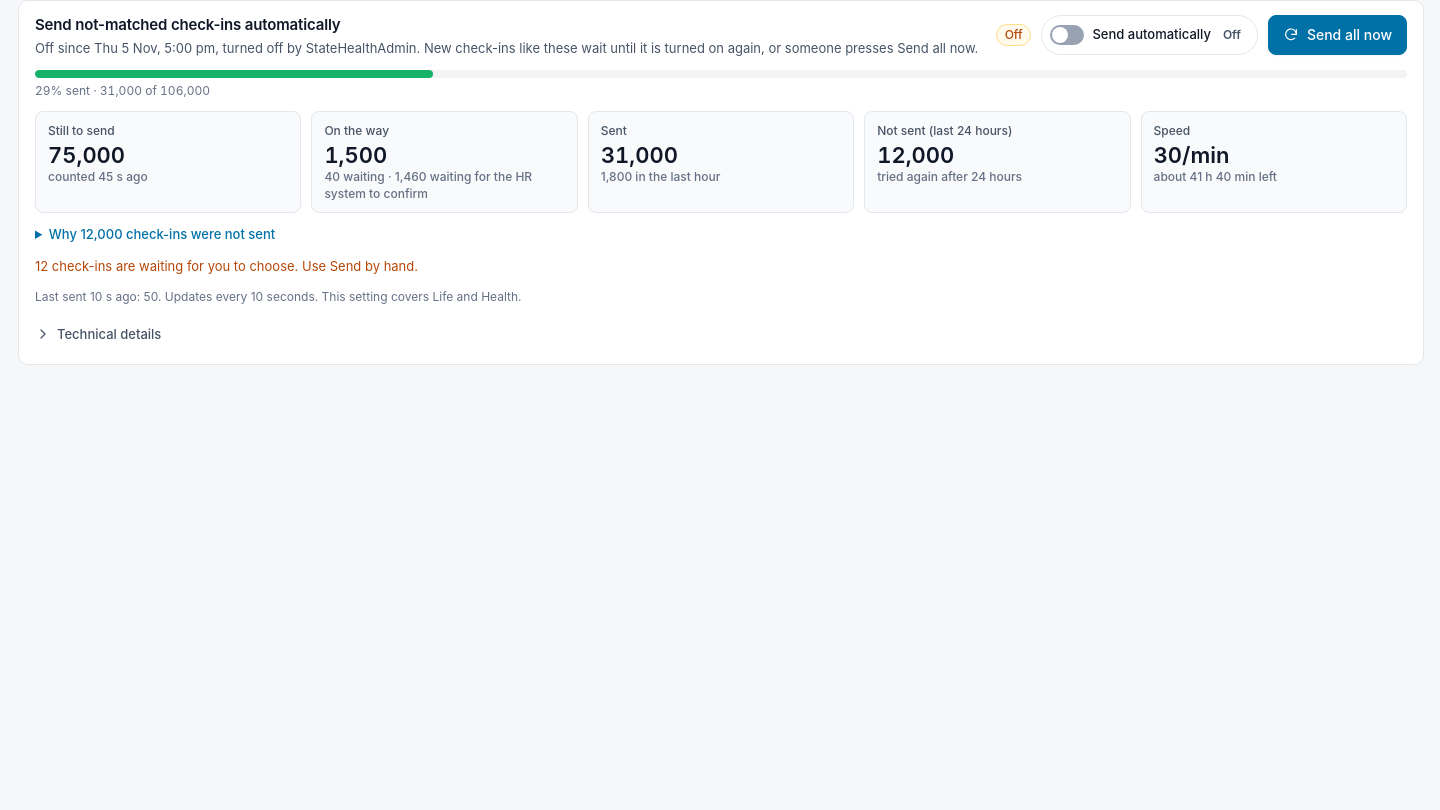
Scenario: automatic release of unknown-identity punches › also asks for a reason and password to turn it back ON
Click the switch labelled "Send automatically Off" at {"x": 1150, "y": 35}, box [1042,15,1258,55]
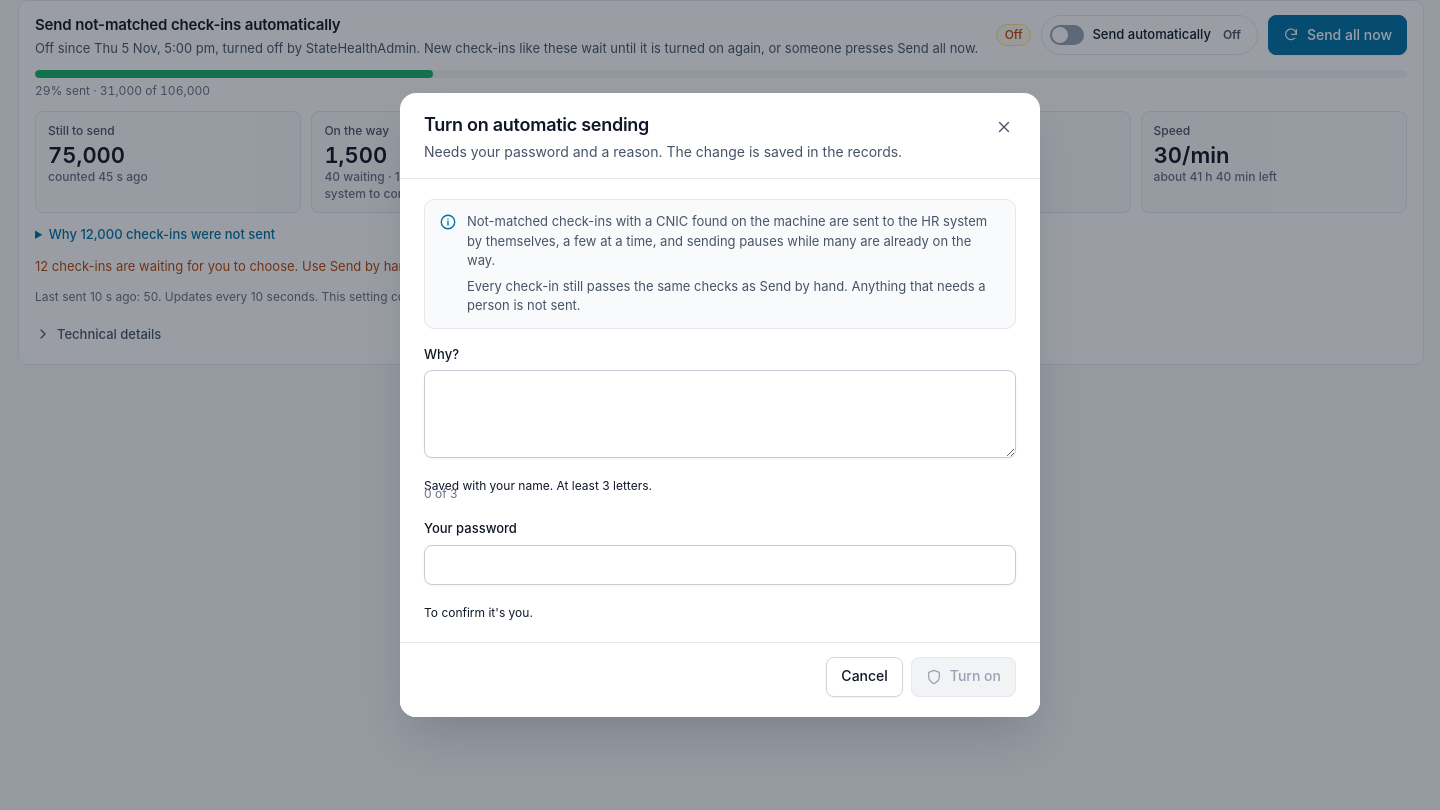
Expected: the text box labelled "Why?" is shown, [424,370,1016,458]
Expected: the password field labelled "Your password" is shown, [424,545,1016,585]
Click the button "Cancel" at {"x": 865, "y": 677}, box [826,657,903,697]
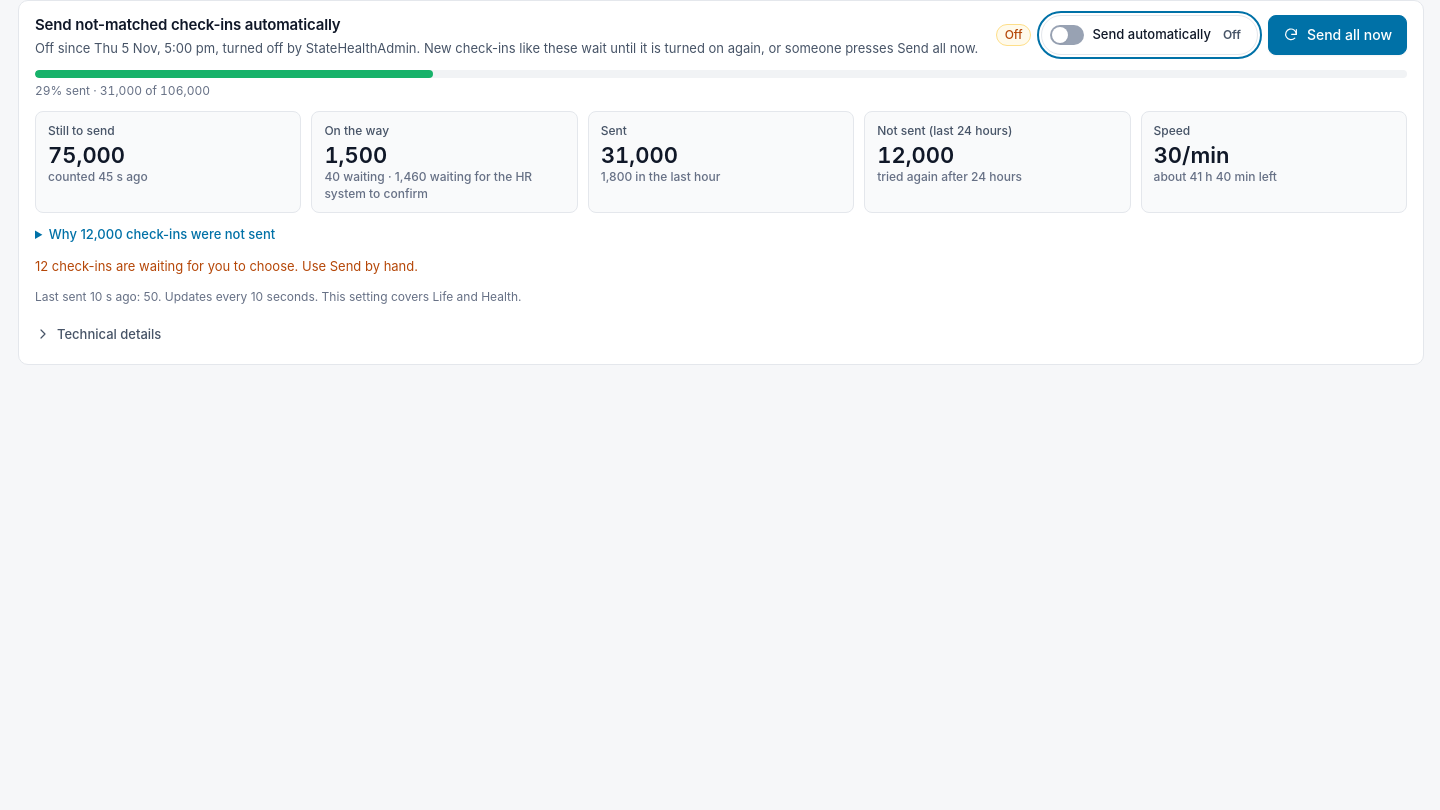
Expected: the dialog is gone
